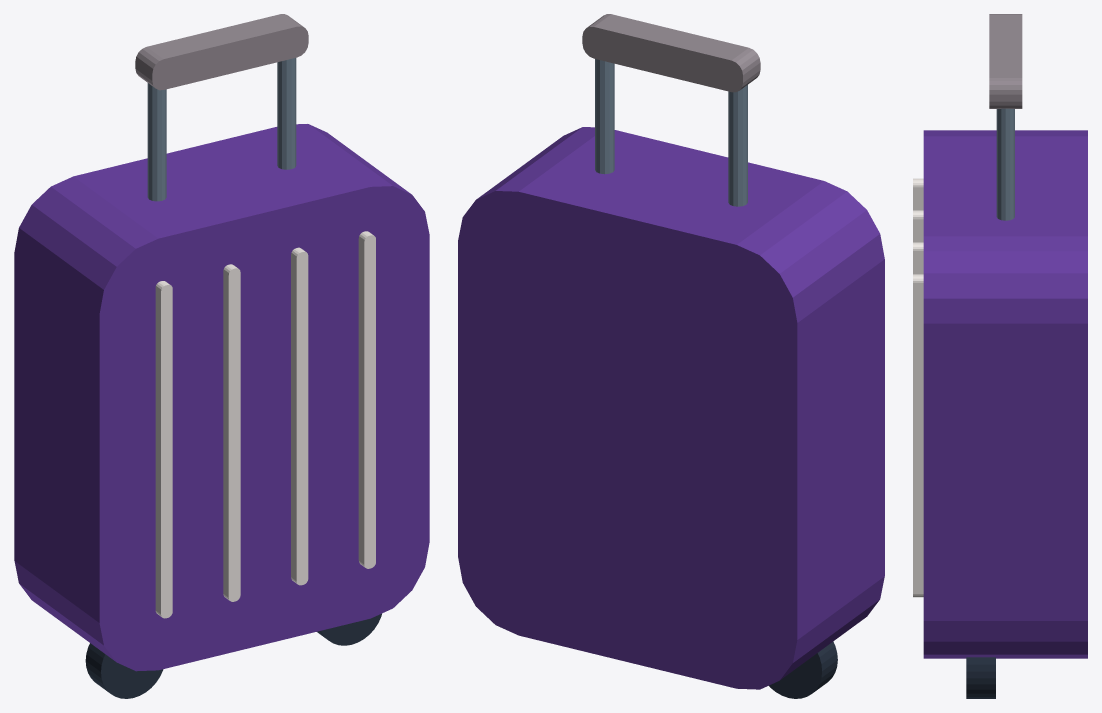
The model's file is suitcase.glb.
3 views of the same model, side by side, from view 1: azimuth 30°, elevation 25°; view 2: azimuth 150°, elevation 25°; view 3: azimuth 270°, elevation 25° (orthographic). The views are drawn at different scales.
Parts seen in each view (by area): view 1: hard shell, handle grip, rib 1, rib 0, rib 2, rib 3, telescopic -0.22, telescopic 0.22, caster -0.37, caster 0.37; view 2: hard shell, handle grip, telescopic -0.22, telescopic 0.22, caster -0.37; view 3: hard shell, rib 3, handle grip, telescopic 0.22, caster 0.37, rib 0, rib 1, rib 2.
Boxes of the visible parts, x1,y1,x2,y2 form: hard shell: [14, 124, 429, 671]; handle grip: [135, 14, 308, 90]; rib 1: [223, 264, 240, 601]; rib 0: [155, 281, 172, 618]; rib 2: [291, 247, 308, 585]; rib 3: [358, 231, 375, 568]; telescopic -0.22: [147, 83, 166, 201]; telescopic 0.22: [277, 58, 296, 169]; caster -0.37: [85, 643, 163, 698]; caster 0.37: [317, 613, 381, 645]; hard shell: [458, 127, 884, 689]; handle grip: [582, 14, 760, 92]; telescopic -0.22: [728, 85, 747, 206]; telescopic 0.22: [595, 59, 614, 174]; caster -0.37: [769, 641, 837, 698]; hard shell: [923, 130, 1087, 658]; rib 3: [913, 274, 923, 597]; handle grip: [989, 14, 1022, 108]; telescopic 0.22: [996, 108, 1014, 220]; caster 0.37: [966, 657, 995, 698]; rib 0: [913, 178, 923, 210]; rib 1: [913, 210, 923, 242]; rib 2: [913, 242, 923, 274].
Size of the model in its own units: 1.12 by 2.01 by 0.5325.
